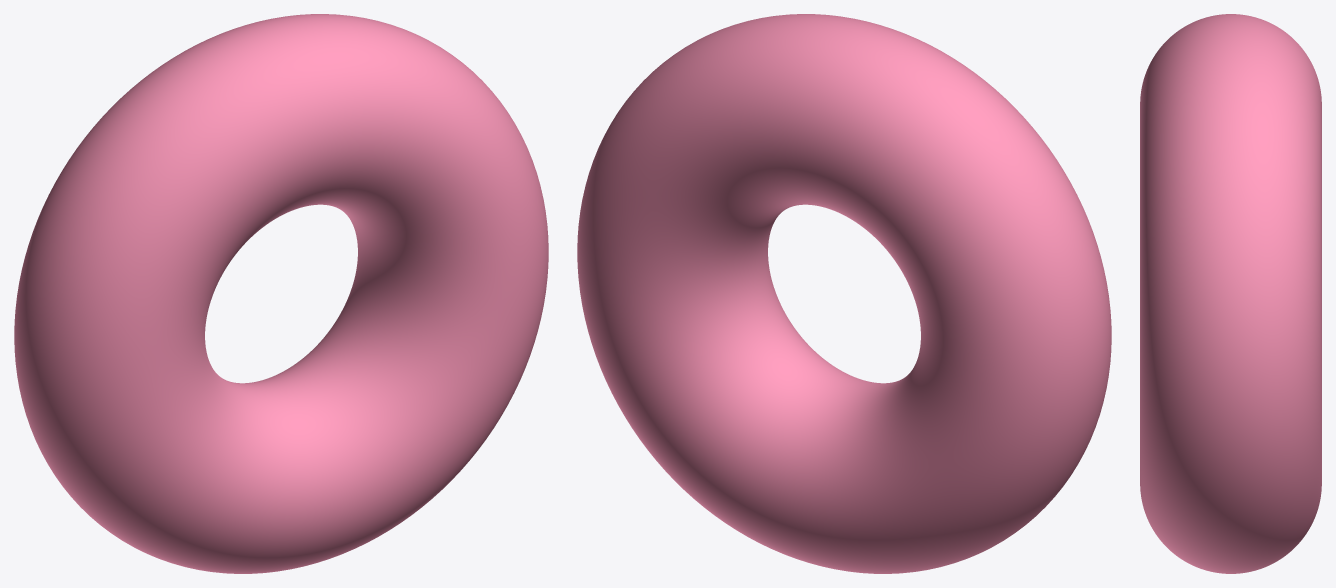
Rendered from 신지우.gltf.
3 renders of one model, left to right at view 1: azimuth 30°, elevation 25°; view 2: azimuth 150°, elevation 25°; view 3: azimuth 270°, elevation 25°, orthographic. The views are drawn at different scales.
Parts seen in each view (by area): view 1: 신지우; view 2: 신지우; view 3: 신지우.
Part boxes in pixels (box(x1,y1,x2,y2)): 신지우: box(14, 14, 548, 573); 신지우: box(577, 14, 1111, 573); 신지우: box(1140, 14, 1321, 573).
Size of the model in its own units: 1.29 by 1.29 by 0.4193.
